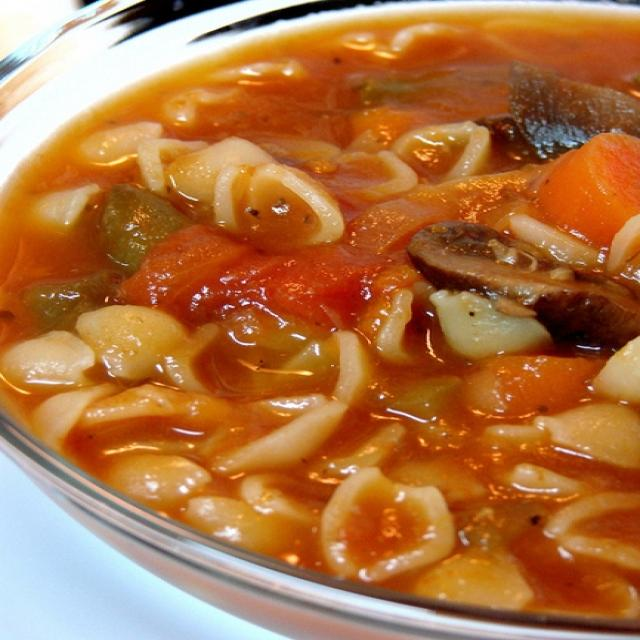汤锅炖物: (15, 10, 632, 621)
